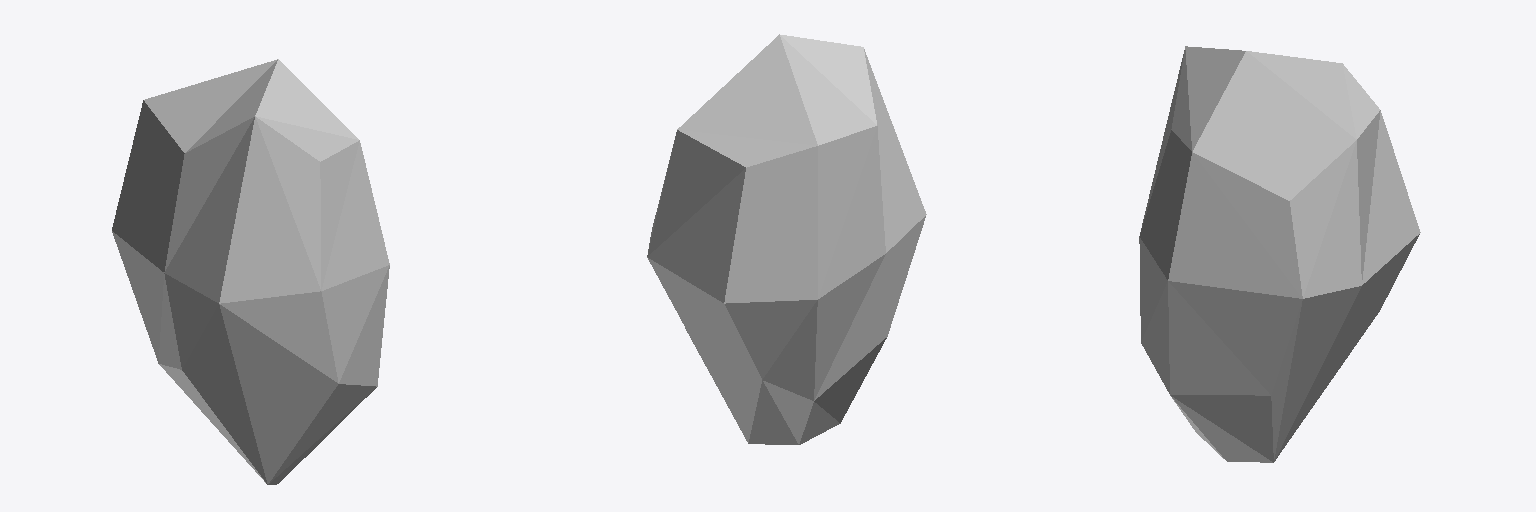
The model's file is smallobj.obj.
The picture shows the model from 3 angles: view 1: azimuth 30°, elevation 25°; view 2: azimuth 150°, elevation 25°; view 3: azimuth 270°, elevation 25°; orthographic projection.
Parts seen in each view (by area): view 1: pCube63 group37; view 2: pCube63 group37; view 3: pCube63 group37.
Part boxes in pixels (x1,y1,x2,y2): pCube63 group37: (112, 59, 389, 484); pCube63 group37: (647, 34, 926, 444); pCube63 group37: (1139, 46, 1420, 462).
Bounding box in the file's own units: 0.3287 × 0.6227 × 0.3817.